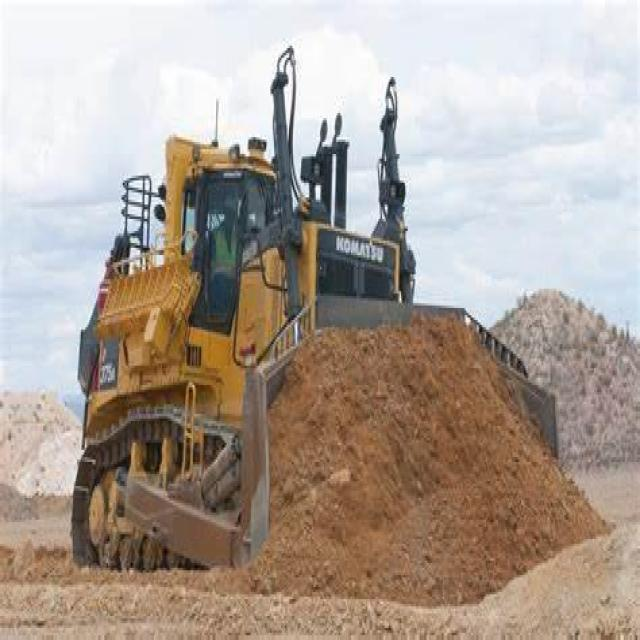buldozerpayloadergrader: (62, 103, 577, 604)
